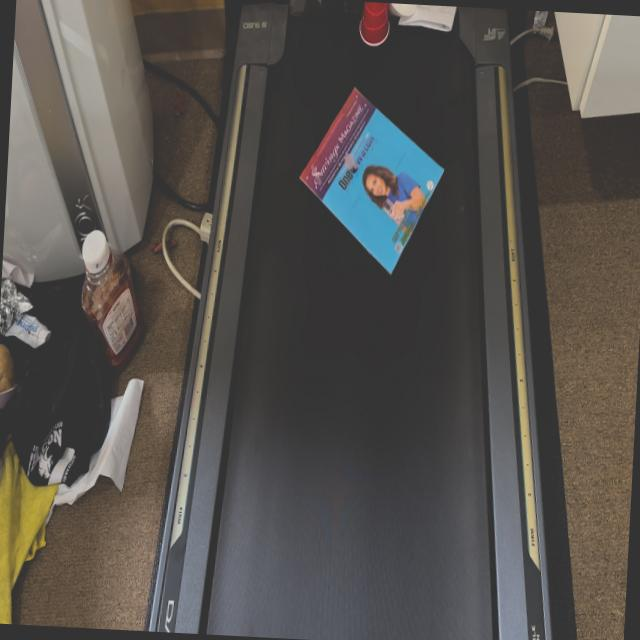Trash: (289, 82, 455, 286)
